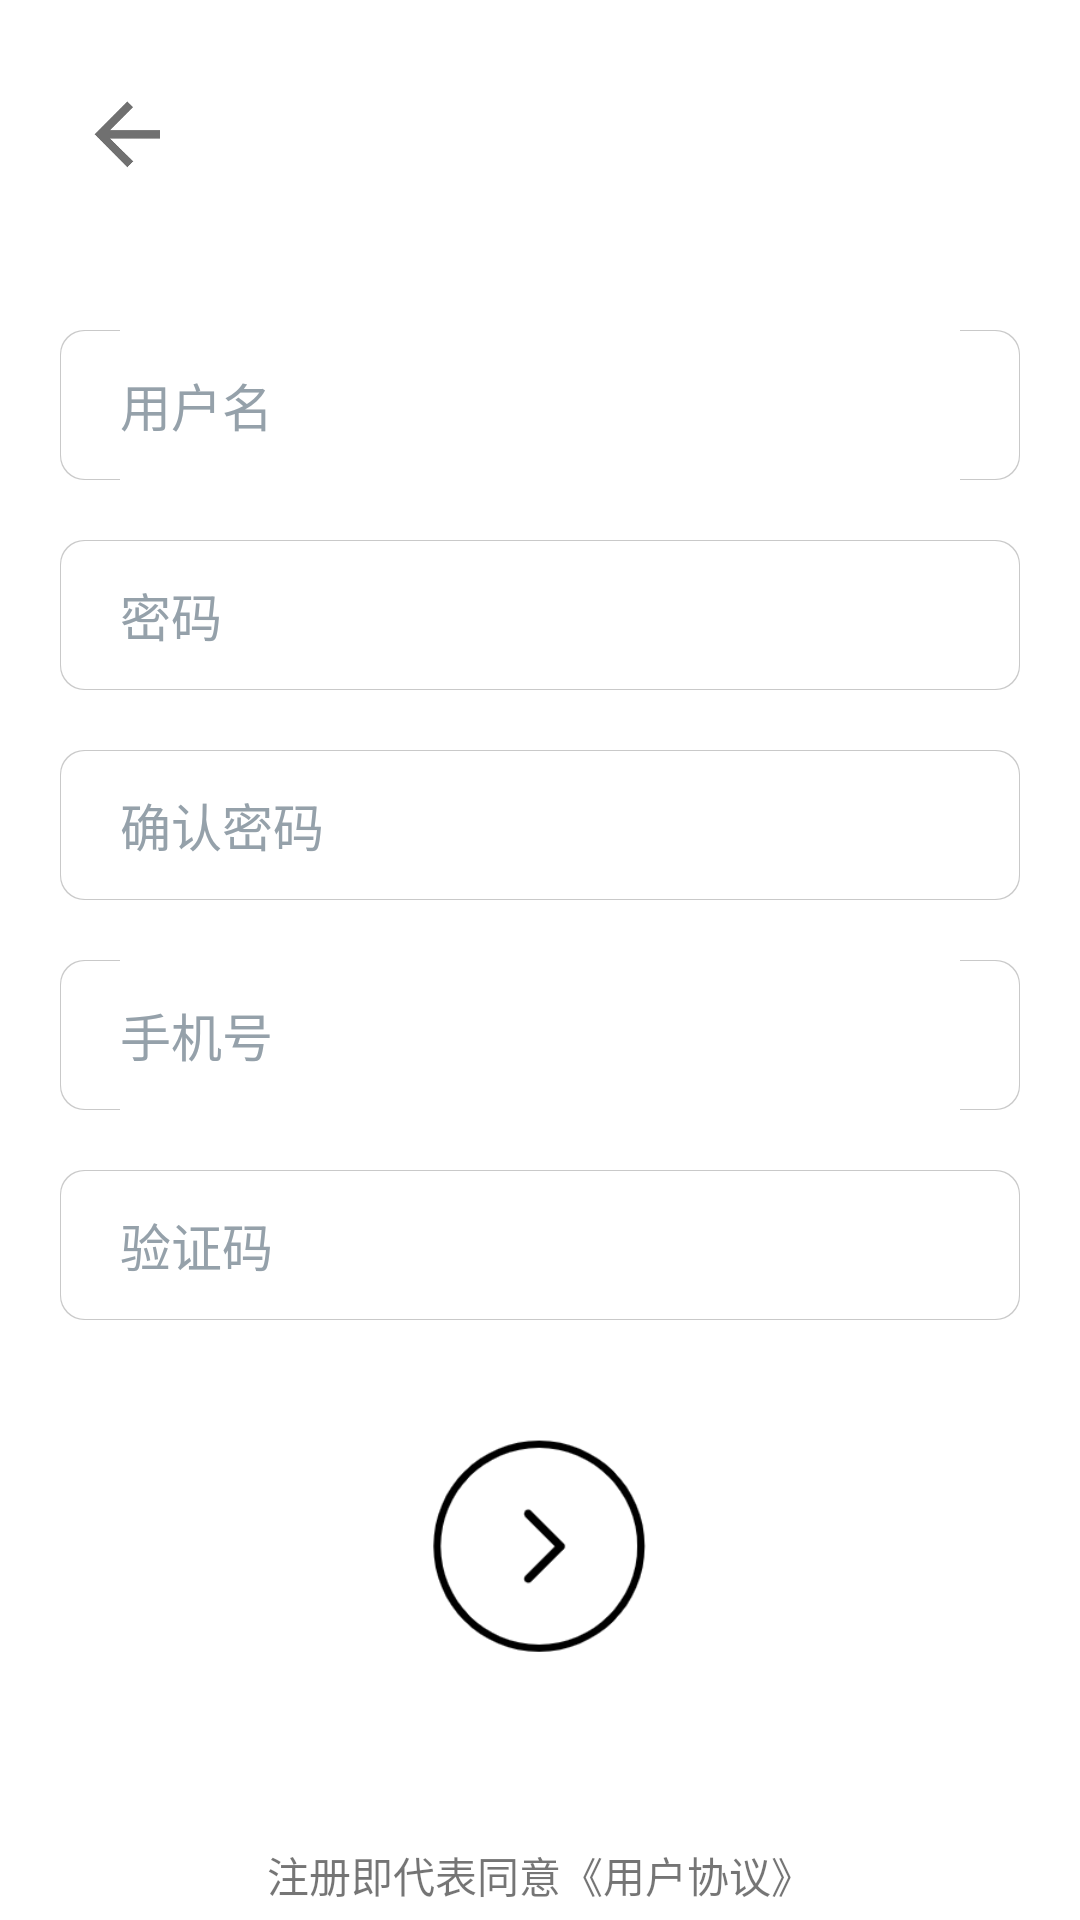

Screen size 1080×1920. Icon name, then its box in pixels as {"left": x1, "top": y1, "right": x2, "bottom": y2}:
back hui: {"left": 95, "top": 101, "right": 160, "bottom": 167}
come: {"left": 433, "top": 1440, "right": 646, "bottom": 1652}
